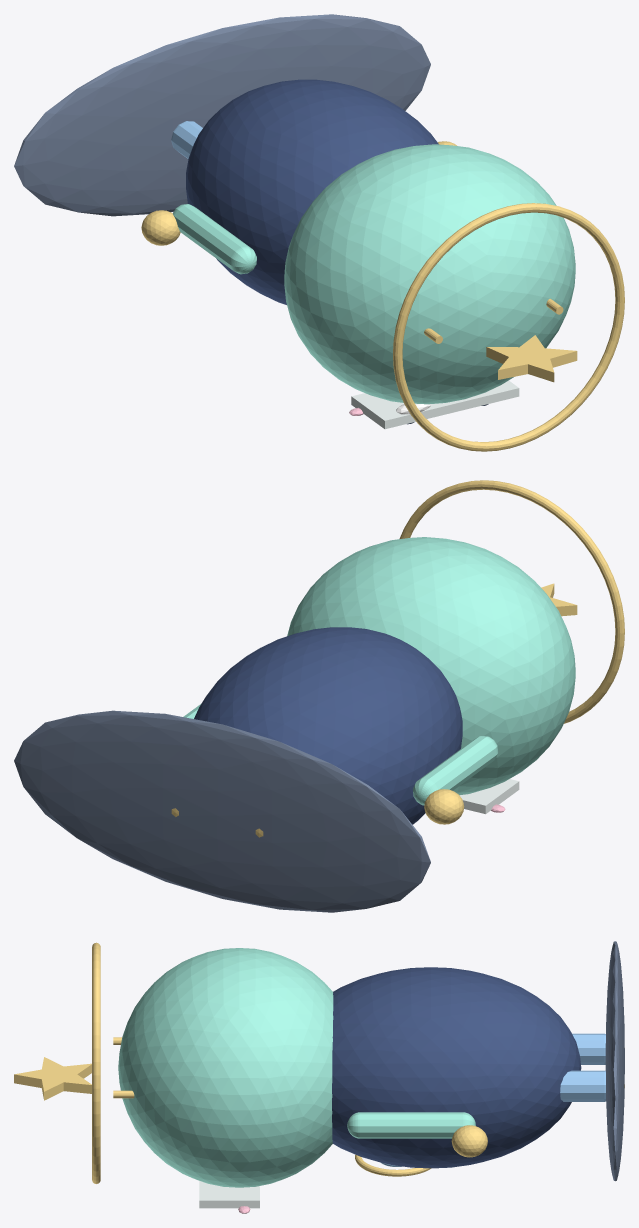
Rendered from goal_spirit_companion.glb.
The picture shows the model from 3 angles, top to bottom: view 1: azimuth 30°, elevation 25°; view 2: azimuth 150°, elevation 25°; view 3: azimuth 270°, elevation 25°; orthographic projection. The views are drawn at different scales.
Parts seen in each view (by area): view 1: mint_head_shell, soft_shadow_base, rounded_body_core, floating_focus_halo, left_arm, face_panel, achievement_star, left_hand, left_hover_foot; view 2: soft_shadow_base, mint_head_shell, rounded_body_core, floating_focus_halo, left_arm, left_hand, face_panel; view 3: mint_head_shell, rounded_body_core, soft_shadow_base, right_arm, floating_focus_halo, achievement_star, right_hover_foot, face_panel, right_hand, left_hover_foot, goal_target_outer_ring.
Boxes of the visible parts, x1,y1,x2,y2 form: mint_head_shell: (284, 144, 575, 404); soft_shadow_base: (14, 14, 430, 216); rounded_body_core: (186, 79, 438, 304); floating_focus_halo: (393, 203, 624, 451); left_arm: (173, 204, 256, 274); face_panel: (351, 380, 519, 429); achievement_star: (486, 335, 577, 382); left_hand: (141, 210, 180, 245); left_hover_foot: (171, 121, 202, 158); soft_shadow_base: (14, 710, 430, 912); mint_head_shell: (287, 537, 575, 795); rounded_body_core: (194, 627, 462, 824); floating_focus_halo: (399, 480, 624, 723); left_arm: (413, 736, 497, 805); left_hand: (424, 789, 464, 824); face_panel: (459, 779, 519, 814); mint_head_shell: (118, 948, 333, 1187); rounded_body_core: (332, 967, 581, 1168); soft_shadow_base: (605, 941, 624, 1181); right_arm: (347, 1112, 475, 1138); floating_focus_halo: (92, 942, 100, 1183); achievement_star: (14, 1057, 91, 1100); right_hover_foot: (560, 1070, 606, 1101); face_panel: (199, 1181, 259, 1208); right_hand: (451, 1125, 487, 1157); left_hover_foot: (572, 1033, 605, 1064); goal_target_outer_ring: (355, 1154, 431, 1176).
Size of the model in its own units: 1.8 by 1.05 by 2.52.
